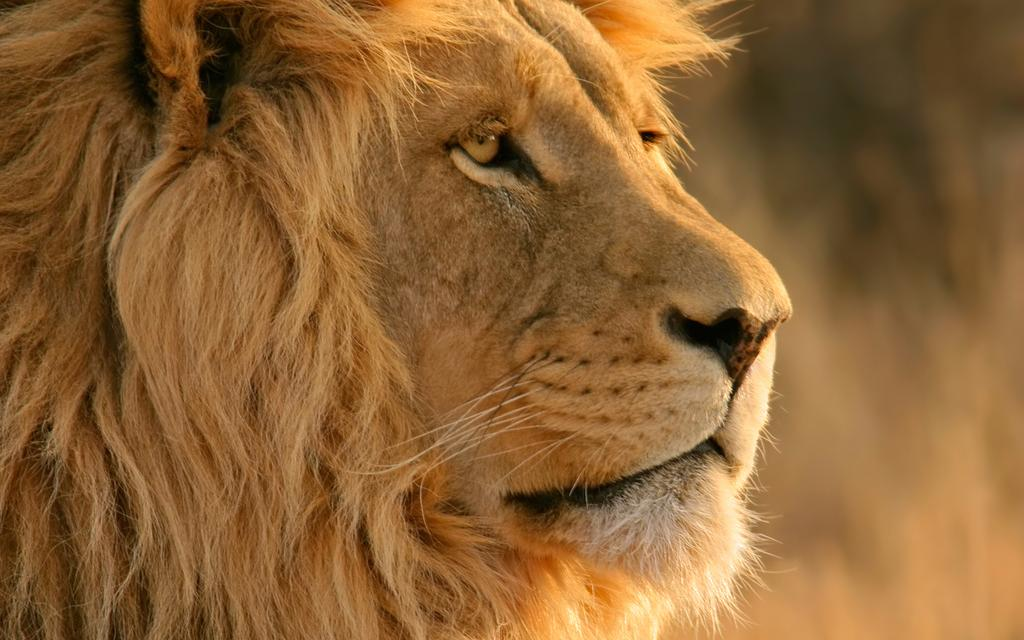lions: (12, 6, 1024, 640)
